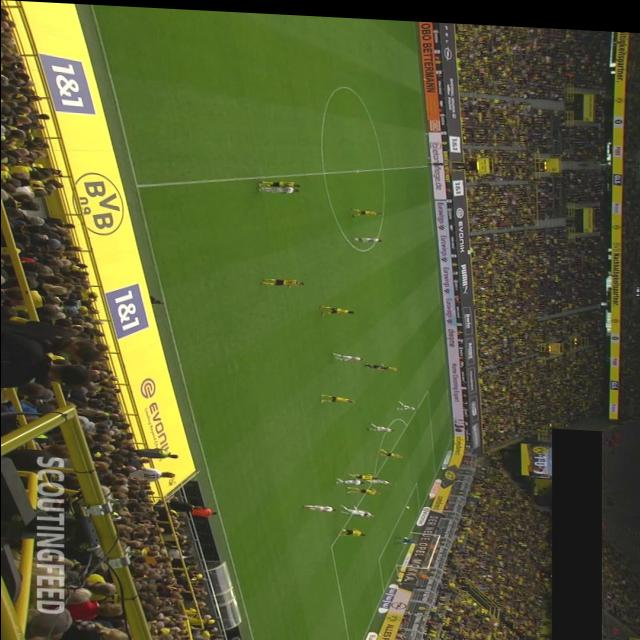goalkeeper: (390, 531, 418, 543)
player: (318, 301, 354, 314), (256, 182, 300, 192), (260, 275, 304, 285), (256, 177, 300, 186), (338, 501, 368, 513), (350, 204, 382, 215), (320, 391, 354, 401), (331, 349, 363, 359), (350, 501, 374, 514), (367, 418, 395, 429), (301, 501, 337, 509), (338, 523, 366, 533), (346, 484, 380, 492), (363, 473, 391, 482), (394, 396, 416, 407), (334, 474, 364, 482), (352, 232, 382, 240), (378, 445, 403, 454), (377, 359, 401, 368), (346, 469, 376, 476), (362, 360, 388, 367)
referee: (426, 157, 448, 163)
